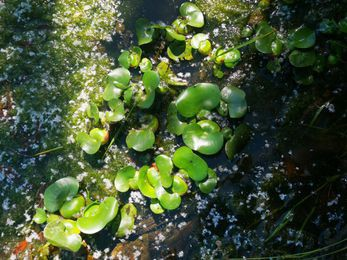water_hyacinth: (35, 2, 327, 252)
